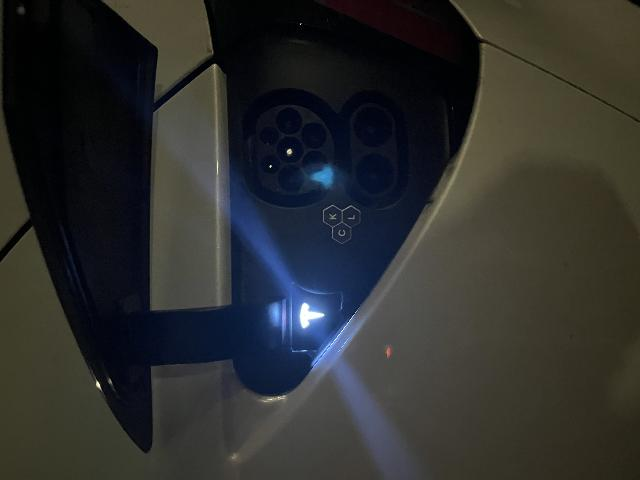inlet: (285, 256, 375, 334)
inlet-above-left: (306, 261, 325, 280)
inlet-above-right: (335, 260, 354, 279)
inlet-below-left: (304, 302, 329, 328)
inlet-below-right: (331, 301, 358, 327)
inlet-circle: (317, 277, 343, 304)
inlet-circle-left: (288, 278, 315, 305)
inlet-circle-right: (346, 276, 372, 303)
inlet-minus: (332, 354, 373, 393)
inlet-plus: (286, 355, 327, 394)
